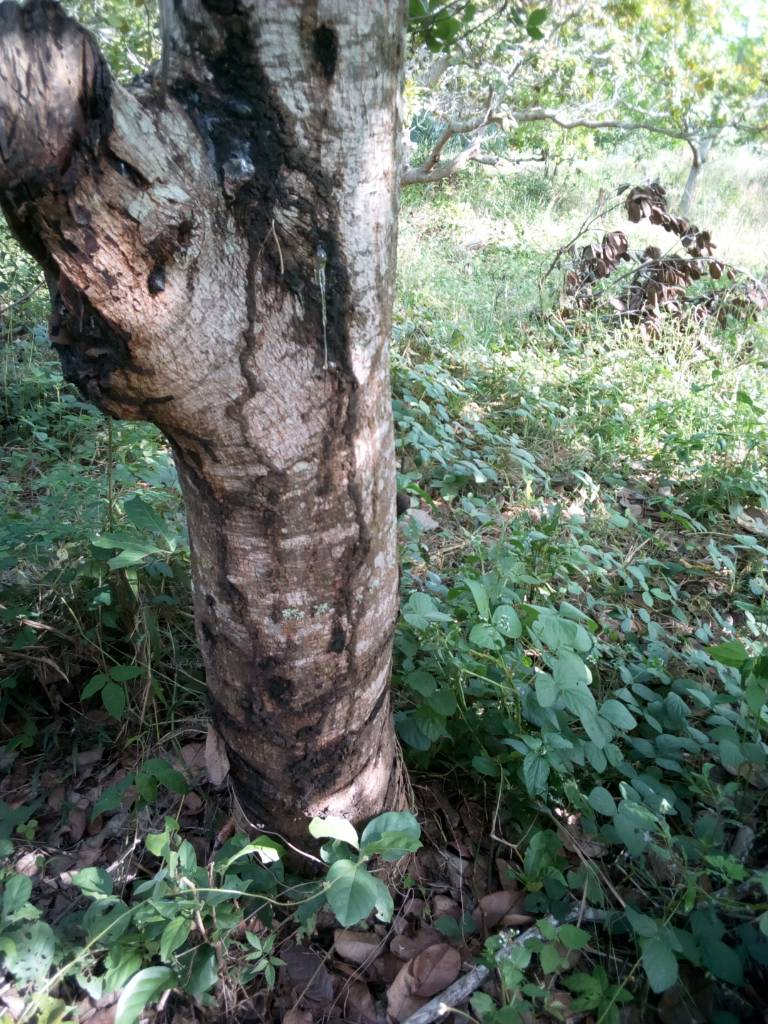Termites: (233, 239, 377, 810)
